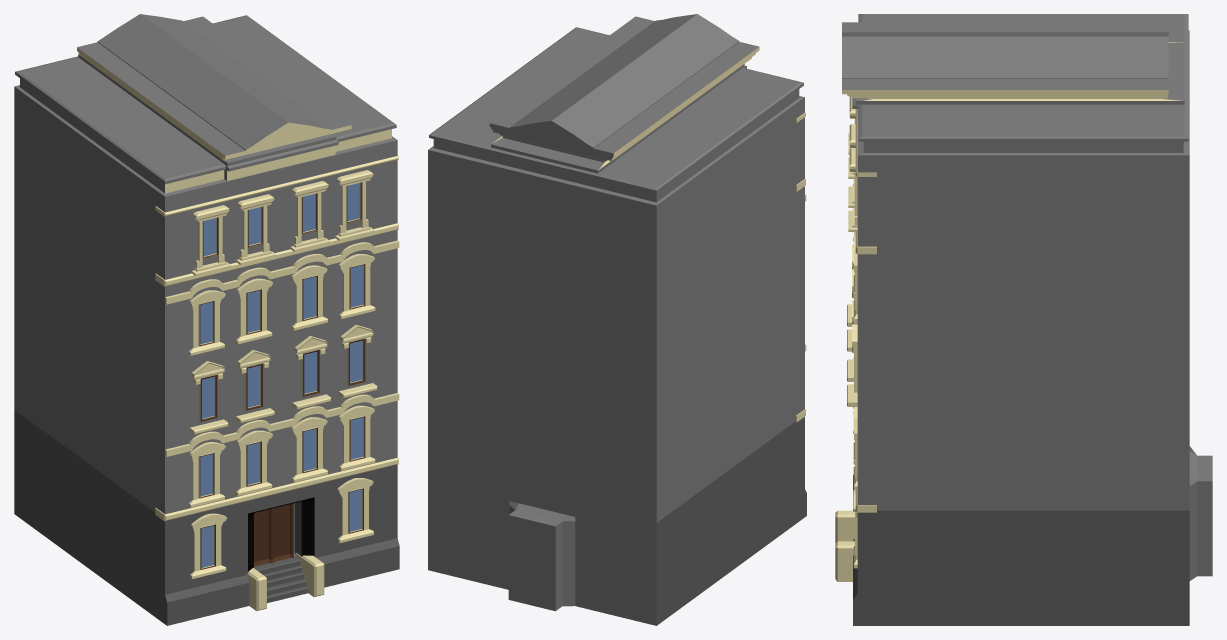
File: Дом 7.fbx
The picture shows the model from 3 angles, left to right: view 1: azimuth 30°, elevation 25°; view 2: azimuth 150°, elevation 25°; view 3: azimuth 270°, elevation 25°; orthographic projection. The views are drawn at different scales.
Visible parts, largest first — view 1: Cube; view 2: Cube; view 3: Cube.
Boxes of the visible parts, bbox=[...] form: Cube: bbox=[14, 14, 399, 625]; Cube: bbox=[428, 14, 806, 625]; Cube: bbox=[835, 14, 1212, 625].
Size of the model in its own units: 94.43 by 184 by 120.
